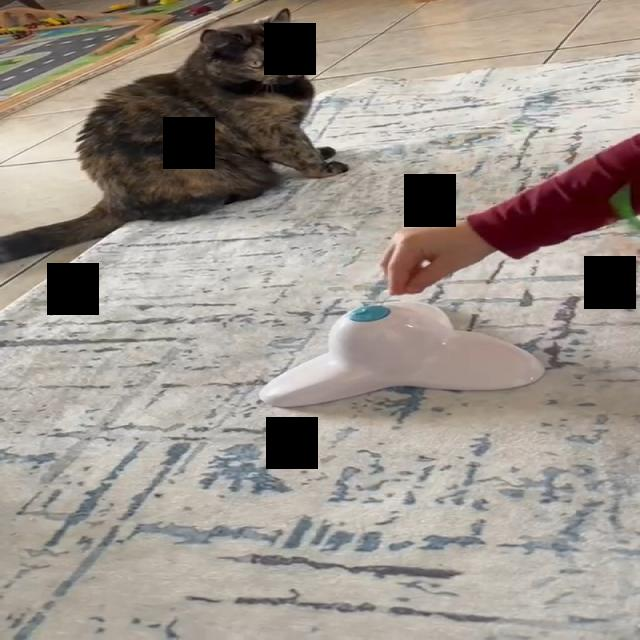authorized: (0, 6, 349, 264)
